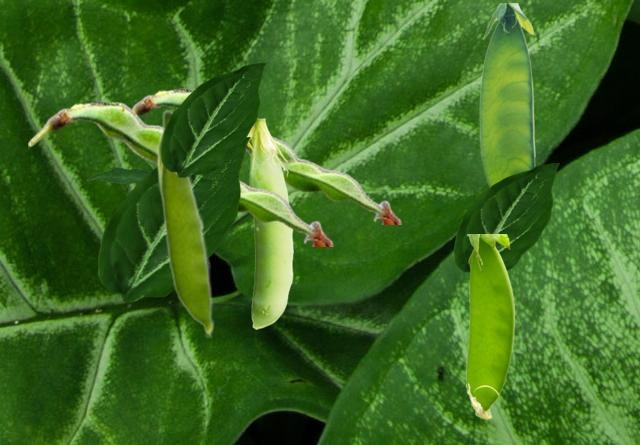pea: (28, 101, 333, 245), (130, 88, 401, 223), (156, 108, 214, 337), (479, 3, 534, 186), (247, 116, 292, 328), (466, 234, 513, 418)
